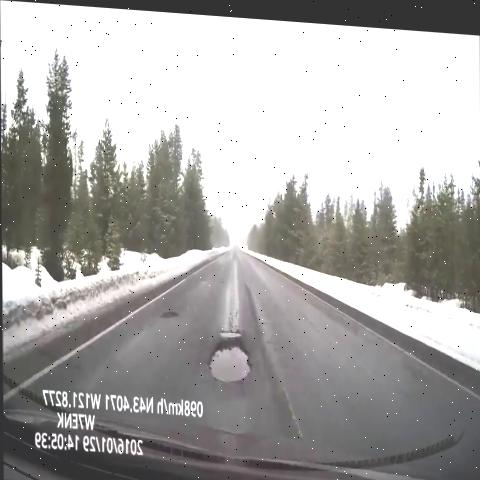pothole: (200, 310, 263, 400), (155, 295, 181, 325)
